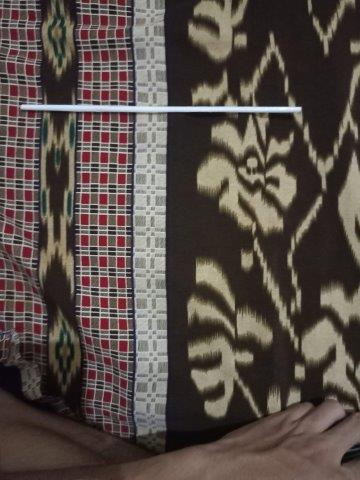sedotan: (20, 104, 301, 113)
